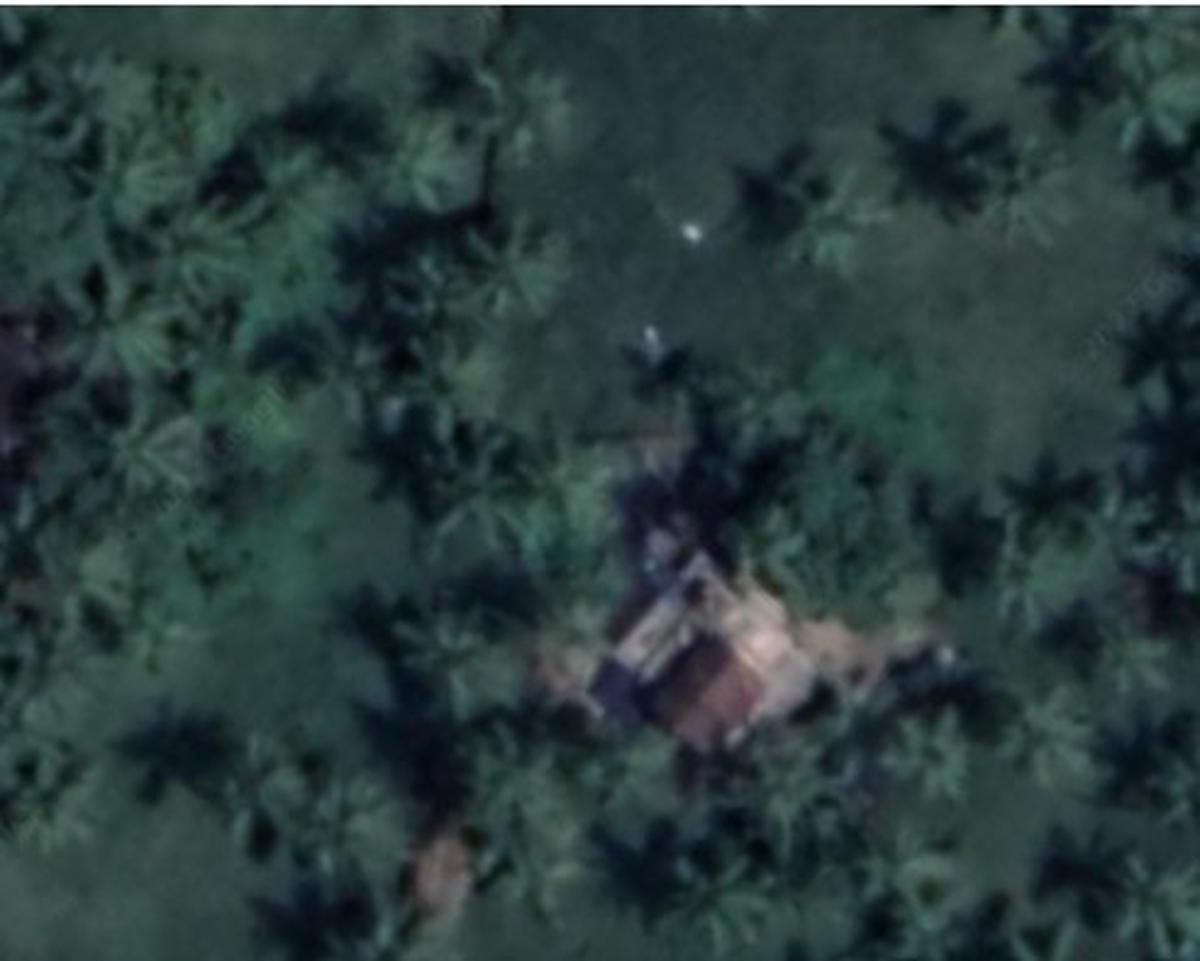coconut: (65, 385, 224, 521), (39, 256, 185, 392), (217, 134, 351, 263), (436, 719, 585, 834), (385, 597, 519, 724), (292, 770, 419, 895), (643, 848, 785, 958), (458, 817, 597, 924), (960, 129, 1070, 263), (207, 729, 312, 868), (409, 419, 521, 546), (390, 321, 514, 431), (56, 119, 180, 229), (978, 509, 1087, 631), (453, 207, 573, 312), (4, 743, 109, 863), (458, 63, 580, 163), (353, 109, 470, 212), (136, 187, 239, 300), (992, 680, 1100, 785), (778, 160, 882, 268), (1092, 860, 1200, 958), (1104, 65, 1200, 170), (1085, 4, 1200, 87), (880, 697, 975, 790), (878, 868, 973, 946), (1082, 617, 1178, 692)
